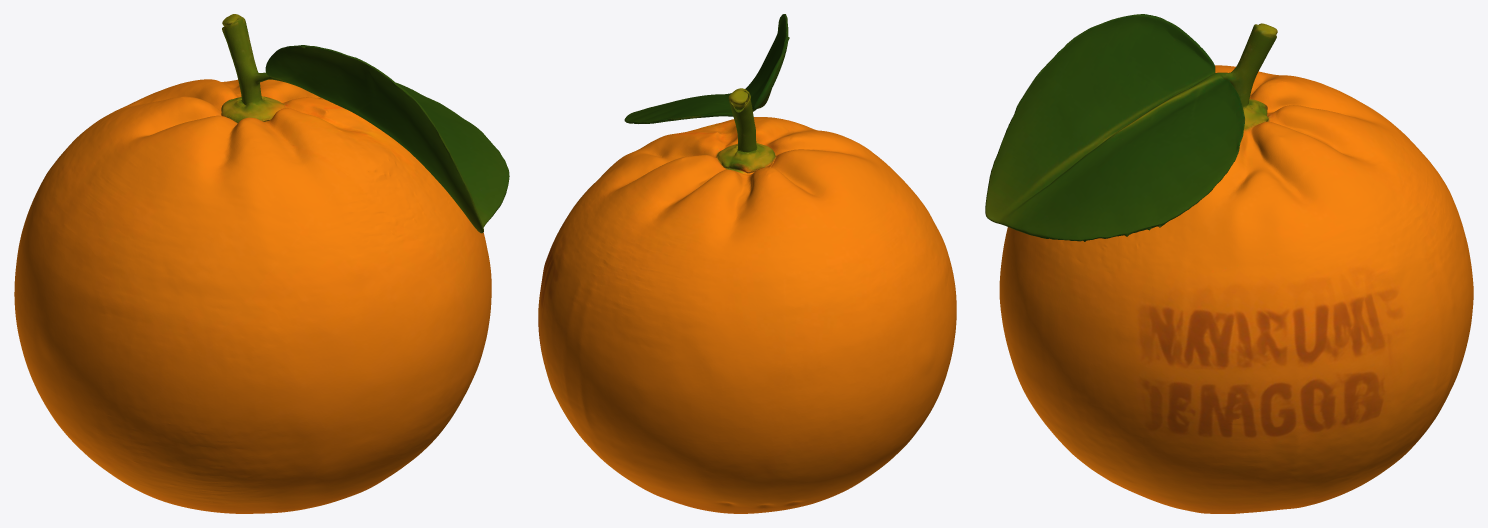
The model's file is nagpurOrange.glb.
3 views of the same model, side by side, from view 1: azimuth 30°, elevation 25°; view 2: azimuth 150°, elevation 25°; view 3: azimuth 270°, elevation 25° (orthographic). The views are drawn at different scales.
Parts seen in each view (by area): view 1: tripo_node_d8e4b603-7caa-480a-a8ae-94fb32ed466f; view 2: tripo_node_d8e4b603-7caa-480a-a8ae-94fb32ed466f; view 3: tripo_node_d8e4b603-7caa-480a-a8ae-94fb32ed466f.
Boxes of the visible parts, left/top/right/bottom form: tripo_node_d8e4b603-7caa-480a-a8ae-94fb32ed466f: left=14, top=14, right=509, bottom=513; tripo_node_d8e4b603-7caa-480a-a8ae-94fb32ed466f: left=538, top=14, right=956, bottom=513; tripo_node_d8e4b603-7caa-480a-a8ae-94fb32ed466f: left=985, top=14, right=1473, bottom=513.
Size of the model in its own units: 0.9305 by 1 by 0.958.
Materials: 1 (1 with a texture image).
